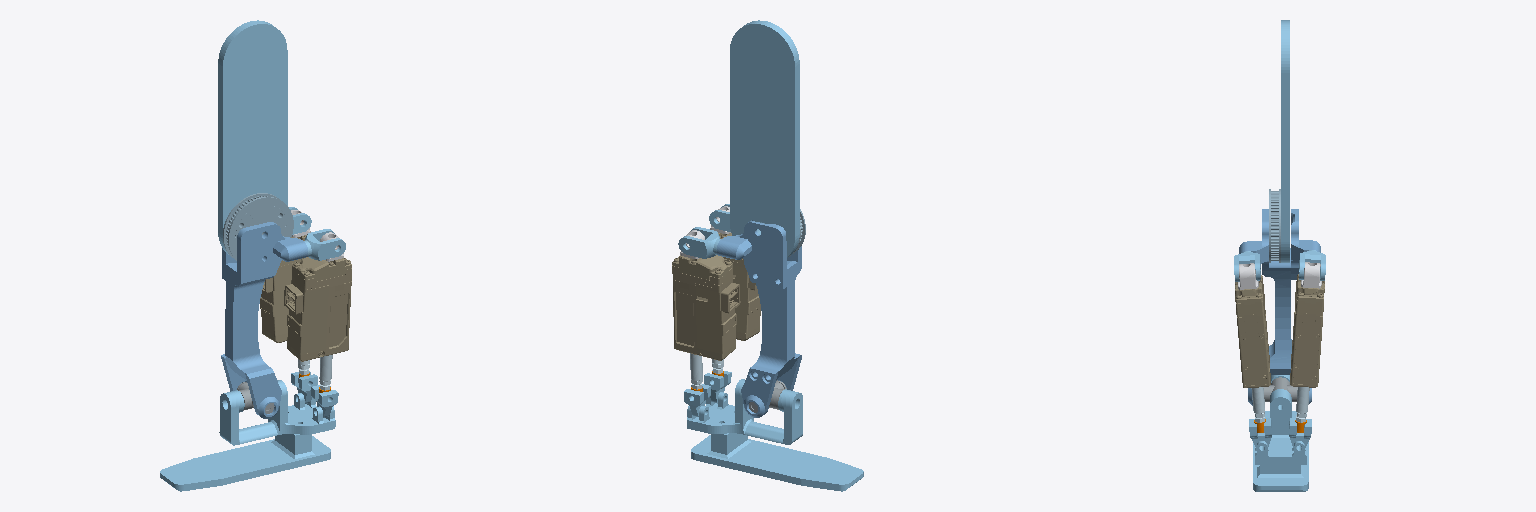
--- Render facts (derived) ---
3 views of the same robot in one strip: view 1: azimuth 30°, elevation 25°; view 2: azimuth 150°, elevation 25°; view 3: azimuth 270°, elevation 25° (orthographic).
Model base_act with 22 links and 21 joints (13 revolute, 2 prismatic, 6 fixed), rooted at hip_pitch_link, posed every joint at zero.
Visible links, largest first — view 1: hip_pitch_link, ank_base_link, ank_act_link_2, ank_rigid_foot_link, ank_roll_link, knee_link, ank_act_link, ank_b_link_2; view 2: hip_pitch_link, ank_base_link, ank_act_link, ank_rigid_foot_link, ank_roll_link, ank_act_link_2, ank_b_link; view 3: ank_base_link, ank_act_link_2, ank_act_link, ank_roll_link, hip_pitch_link, ank_rigid_foot_link, knee_link.
Boxes of the visible links, <box> form: hip_pitch_link: <box>218,20,287,254</box>; ank_base_link: <box>221,222,307,418</box>; ank_act_link_2: <box>284,257,351,361</box>; ank_rigid_foot_link: <box>160,434,330,491</box>; ank_roll_link: <box>219,380,335,445</box>; knee_link: <box>223,193,293,260</box>; ank_act_link: <box>260,235,306,342</box>; ank_b_link_2: <box>304,229,345,260</box>; hip_pitch_link: <box>730,20,799,257</box>; ank_base_link: <box>717,220,801,417</box>; ank_act_link: <box>672,255,740,360</box>; ank_rigid_foot_link: <box>691,433,863,491</box>; ank_roll_link: <box>687,379,802,444</box>; ank_act_link_2: <box>718,233,760,340</box>; ank_b_link: <box>678,227,720,258</box>; ank_base_link: <box>1239,209,1320,405</box>; ank_act_link_2: <box>1235,275,1270,387</box>; ank_act_link: <box>1290,274,1324,387</box>; ank_roll_link: <box>1255,375,1306,464</box>; hip_pitch_link: <box>1281,20,1289,262</box>; ank_rigid_foot_link: <box>1253,411,1308,491</box>; knee_link: <box>1269,189,1280,262</box>.
Size in the robot's own frame: 0.1011 by 0.0496 by 0.2597 metres.
Meshes: 18 distinct files referenced, 18 mesh visuals loaded (18 binary STL).

robot.urdf — base_act:
<?xml version="1.0" ?>
<robot name="base_act">
<link name="hip_pitch_link">
<visual>
<origin xyz="0 0 0" rpy="0 -0 0" />
<geometry>
<mesh filename="package:///meshes/hip_pitch_link_visual.stl" />
</geometry>
<material name="hip_pitch_link_material">
<color rgba="0.61568627450980395466 0.81176470588235294379 0.92941176470588238168 1.0" />
</material>
</visual>
<collision>
<origin xyz="0 0 0" rpy="0 -0 0" />
<geometry>
<mesh filename="package:///meshes/hip_pitch_link_collision.stl" />
</geometry>
</collision>
<inertial>
<origin xyz="3.7733282287733793921e-17 -0.0024843438022173116447 0.25078691758720839111" rpy="0 0 0" />
<mass value="0.032344925814368430395" />
<inertia ixx="4.6689007636575555378e-05" ixy="-7.8653691960934431506e-20" ixz="-2.8269182393006931084e-21" iyy="5.0734955610399668402e-05" iyz="2.5718421720721515737e-08" izz="4.1800556828525936887e-06" />
</inertial>
</link>

<link name="knee_link">
<visual>
<origin xyz="0 0 0" rpy="0 -0 0" />
<geometry>
<mesh filename="package:///meshes/knee_link_visual.stl" />
</geometry>
<material name="knee_link_material">
<color rgba="0.62989867807310029324 0.73714958717504686092 0.80150013263621500137 1.0" />
</material>
</visual>
<collision>
<origin xyz="0 0 0" rpy="0 -0 0" />
<geometry>
<mesh filename="package:///meshes/knee_link_collision.stl" />
</geometry>
</collision>
<inertial>
<origin xyz="7.9016048423919102933e-17 1.4115065074822643205e-17 -0.003245785312664356808" rpy="0 0 0" />
<mass value="0.0088445512816305894843" />
<inertia ixx="8.4493274385134268438e-07" ixy="2.1633753337704081093e-21" ixz="-4.4859719238895976093e-21" iyy="8.449327438513476607e-07" iyz="7.6824358496880184644e-21" izz="1.6234141475381562004e-06" />
</inertial>
</link>

<link name="ank_base_link">
<visual>
<origin xyz="0 0 0" rpy="0 -0 0" />
<geometry>
<mesh filename="package:///meshes/ank_base_link_visual.stl" />
</geometry>
<material name="ank_base_link_material">
<color rgba="0.54555368846635599045 0.72113944167448496003 0.87071994840215705125 1.0" />
</material>
</visual>
<collision>
<origin xyz="0 0 0" rpy="0 -0 0" />
<geometry>
<mesh filename="package:///meshes/ank_base_link_collision.stl" />
</geometry>
</collision>
<inertial>
<origin xyz="-0.0022434246051615336706 0.043104146371691305639 0.0063175709427246281788" rpy="0 0 0" />
<mass value="0.02875420604358817217" />
<inertia ixx="3.0772164408681787376e-05" ixy="1.8400536704903029448e-06" ixz="1.2178414041262167657e-07" iyy="3.9585076474244708505e-06" iyz="-1.4740589735327474461e-07" izz="3.0395594724444377108e-05" />
</inertial>
</link>

<link name="ank_pitch_link">
<visual>
<origin xyz="0 0 0" rpy="0 -0 0" />
<geometry>
<mesh filename="package:///meshes/ank_pitch_link_visual.stl" />
</geometry>
<material name="ank_pitch_link_material">
<color rgba="0.64184024980098741686 0.67445633560364026682 0.69402598708523177695 1.0" />
</material>
</visual>
<collision>
<origin xyz="0 0 0" rpy="0 -0 0" />
<geometry>
<mesh filename="package:///meshes/ank_pitch_link_collision.stl" />
</geometry>
</collision>
<inertial>
<origin xyz="1.065812785497239684e-07 0.00077531428866852054871 -0.014599794574393471294" rpy="0 0 0" />
<mass value="0.0030690306166371106658" />
<inertia ixx="2.0283928099407155777e-07" ixy="3.8262594985623510174e-13" ixz="3.1594306911978458925e-12" iyy="1.8551421794440896239e-07" iyz="1.5373147078928599918e-13" izz="5.947907120448394324e-08" />
</inertial>
</link>

<link name="ank_roll_link">
<visual>
<origin xyz="0 0 0" rpy="0 -0 0" />
<geometry>
<mesh filename="package:///meshes/ank_roll_link_visual.stl" />
</geometry>
<material name="ank_roll_link_material">
<color rgba="0.61568627450980395466 0.81176470588235294379 0.92941176470588238168 1.0" />
</material>
</visual>
<collision>
<origin xyz="0 0 0" rpy="0 -0 0" />
<geometry>
<mesh filename="package:///meshes/ank_roll_link_collision.stl" />
</geometry>
</collision>
<inertial>
<origin xyz="-1.4901271647309090873e-10 -0.01368496791793158765 0.014389602633949057781" rpy="0 0 0" />
<mass value="0.010935071666786918415" />
<inertia ixx="4.680619581430812295e-06" ixy="-1.1570405105796601499e-14" ixz="-1.8289472765767655991e-14" iyy="4.2448765972400816698e-06" iyz="7.3202159795374526399e-07" izz="1.1368413583288420761e-06" />
</inertial>
</link>

<link name="ank_rigid_foot_link">
<visual>
<origin xyz="0 0 0" rpy="0 -0 0" />
<geometry>
<mesh filename="package:///meshes/ank_rigid_foot_link_visual.stl" />
</geometry>
<material name="ank_rigid_foot_link_material">
<color rgba="0.61568627450980395466 0.81176470588235294379 0.92941176470588238168 1.0" />
</material>
</visual>
<collision>
<origin xyz="0 0 0" rpy="0 -0 0" />
<geometry>
<mesh filename="package:///meshes/ank_rigid_foot_link_collision.stl" />
</geometry>
</collision>
<inertial>
<origin xyz="-0.023731999094105324377 -9.4396649339015101572e-10 -0.013306321578886210963" rpy="0 0 0" />
<mass value="0.016563983404687340067" />
<inertia ixx="1.3186381958179097554e-06" ixy="6.9194669560367671959e-13" ixz="-6.6384590258348538486e-07" iyy="1.1862123164402233144e-05" iyz="-6.0901536317591526258e-15" izz="1.2671869695593447838e-05" />
</inertial>
</link>

<joint name="ank_foot" type="fixed">
<origin xyz="-3.9898639947466563171e-17 -0.022500000000000131006 0.025600000000000136535" rpy="-1.5707963267948477082 -1.5707963267948954478 0" />
<parent link="ank_roll_link" />
<child link="ank_rigid_foot_link" />
<axis xyz="0 0 1" />
<limit effort="1" velocity="20" />
<joint_properties friction="0.0" />
</joint>

<link name="ank_rr_link">
<visual>
<origin xyz="0 0 0" rpy="0 -0 0" />
<geometry>
<mesh filename="package:///meshes/ank_rr_link_visual.stl" />
</geometry>
<material name="ank_rr_link_material">
<color rgba="0.61568627450980395466 0.81176470588235294379 0.92941176470588238168 1.0" />
</material>
</visual>
<collision>
<origin xyz="0 0 0" rpy="0 -0 0" />
<geometry>
<mesh filename="package:///meshes/ank_rr_link_collision.stl" />
</geometry>
</collision>
<inertial>
<origin xyz="2.9962725549968923216e-05 -0.006924128325415312632 -0.001900000000000005634" rpy="0 0 0" />
<mass value="0.00095937776863479976974" />
<inertia ixx="2.2259486597278172718e-08" ixy="8.841769308478533704e-11" ixz="-1.3528801961660026529e-14" iyy="1.9281323587980155461e-08" iyz="-5.7741986878948360312e-26" izz="2.9726039484830359872e-08" />
</inertial>
</link>

<link name="ank_act_rod_head">
<visual>
<origin xyz="0 0 0" rpy="0 -0 0" />
<geometry>
<mesh filename="package:///meshes/ank_act_rod_head_visual.stl" />
</geometry>
<material name="ank_act_rod_head_material">
<color rgba="0.97254901960784312376 0.52941176470588235947 0.0039215686274509803377 1.0" />
</material>
</visual>
<collision>
<origin xyz="0 0 0" rpy="0 -0 0" />
<geometry>
<mesh filename="package:///meshes/ank_act_rod_head_collision.stl" />
</geometry>
</collision>
<inertial>
<origin xyz="-5.7828415394479757123e-11 0.0033987031118029096925 -0.0020055782443104603653" rpy="0 0 0" />
<mass value="0.00021950575367189157174" />
<inertia ixx="3.5463041803908304885e-09" ixy="-3.4252092716065181194e-27" ixz="3.0761072604181171894e-16" iyy="7.8971958044316566211e-10" iyz="2.1060789170620457003e-12" izz="3.8328239589459794417e-09" />
</inertial>
</link>

<link name="closing_ank_act1_2">
<inertial>
<origin xyz="0 0 0" rpy="0 0 0" />
<mass value="1e-9" />
<inertia ixx="0" ixy="0" ixz="0" iyy="0" iyz="0" izz="0" />
</inertial>
</link>
<joint name="closing_ank_act1_2_frame" type="fixed">
<origin xyz="0 0.0040999999999999925393 -0.0020093773498181892977" rpy="1.570796326794896558 -1.570796326794896558 0" />
<parent link="ank_act_rod_head" />
<child link="closing_ank_act1_2" />
<axis xyz="0 0 0" />
</joint>

<joint name="ank_R21_passive" type="revolute">
<origin xyz="0.001999999999999990067 -0.0099999999999999672484 -0.0019000000000000058509" rpy="-1.5707963267948636954 -1.5534345204865058765 -1.5707963267948001906" />
<parent link="ank_rr_link" />
<child link="ank_act_rod_head" />
<axis xyz="0 0 1" />
<limit effort="1" velocity="20" lower="-1.570796326794896558" upper="1.570796326794896558" />
<joint_properties friction="0.0" />
</joint>

<joint name="ank_R11_passive" type="revolute">
<origin xyz="0.009999999999999995004 -0.01250000000000002498 0.040599999999999976386" rpy="4.5538414498539748188e-14 8.2432841012071876929e-15 3.0761399207850028681" />
<parent link="ank_roll_link" />
<child link="ank_rr_link" />
<axis xyz="0 0 1" />
<limit effort="1" velocity="20" lower="-1.570796326794896558" upper="1.570796326794896558" />
<joint_properties friction="0.0" />
</joint>

<link name="ank_rr_link_2">
<visual>
<origin xyz="0 0 0" rpy="0 -0 0" />
<geometry>
<mesh filename="package:///meshes/ank_rr_link_2_visual.stl" />
</geometry>
<material name="ank_rr_link_2_material">
<color rgba="0.61568627450980395466 0.81176470588235294379 0.92941176470588238168 1.0" />
</material>
</visual>
<collision>
<origin xyz="0 0 0" rpy="0 -0 0" />
<geometry>
<mesh filename="package:///meshes/ank_rr_link_2_collision.stl" />
</geometry>
</collision>
<inertial>
<origin xyz="2.9962725549968774138e-05 0.0069241283254153134993 -0.0018999999999999991288" rpy="0 0 0" />
<mass value="0.00095937776863479976974" />
<inertia ixx="2.22594865972781661e-08" ixy="-8.8417693084784858826e-11" ixz="1.3528801961658870059e-14" iyy="1.9281323587980162078e-08" iyz="-1.6626376108552277629e-26" izz="2.9726039484830359872e-08" />
</inertial>
</link>

<link name="ank_act_rod_head_2">
<visual>
<origin xyz="0 0 0" rpy="0 -0 0" />
<geometry>
<mesh filename="package:///meshes/ank_act_rod_head_2_visual.stl" />
</geometry>
<material name="ank_act_rod_head_2_material">
<color rgba="0.97254901960784312376 0.52941176470588235947 0.0039215686274509803377 1.0" />
</material>
</visual>
<collision>
<origin xyz="0 0 0" rpy="0 -0 0" />
<geometry>
<mesh filename="package:///meshes/ank_act_rod_head_2_collision.stl" />
</geometry>
</collision>
<inertial>
<origin xyz="-5.7828422333254443625e-11 0.0033987031118029096925 -0.002005578244310459498" rpy="0 0 0" />
<mass value="0.00021950575367189157174" />
<inertia ixx="3.5463041803908304885e-09" ixy="-2.0779273637994250695e-27" ixz="3.0761072604376908006e-16" iyy="7.8971958044316545532e-10" iyz="2.106078917062082051e-12" izz="3.8328239589459794417e-09" />
</inertial>
</link>

<link name="closing_ank_act2_2">
<inertial>
<origin xyz="0 0 0" rpy="0 0 0" />
<mass value="1e-9" />
<inertia ixx="0" ixy="0" ixz="0" iyy="0" iyz="0" izz="0" />
</inertial>
</link>
<joint name="closing_ank_act2_2_frame" type="fixed">
<origin xyz="-6.9388939039072283776e-18 0.0040999999999999925393 -0.0020093773498181905987" rpy="1.570796326794896558 1.570796326794896558 0" />
<parent link="ank_act_rod_head_2" />
<child link="closing_ank_act2_2" />
<axis xyz="0 0 0" />
</joint>

<joint name="ank_R22_passive" type="revolute">
<origin xyz="0.0020000000000000139194 0.010000000000000050515 -0.0019000000000000127898" rpy="-1.5707963267951321473 1.5676670190976929042 -1.5707963267984343947" />
<parent link="ank_rr_link_2" />
<child link="ank_act_rod_head_2" />
<axis xyz="0 0 1" />
<limit effort="1" velocity="20" lower="-1.570796326794896558" upper="1.570796326794896558" />
<joint_properties friction="0.0" />
</joint>

<joint name="ank_R12_passive" type="revolute">
<origin xyz="-0.0099999999999999845957 -0.012500000000000052736 0.040599999999999969447" rpy="-4.7709545858758676013e-14 1.2384261596296442717e-14 0.079471996733595215434" />
<parent link="ank_roll_link" />
<child link="ank_rr_link_2" />
<axis xyz="0 0 1" />
<limit effort="1" velocity="20" lower="-1.570796326794896558" upper="1.570796326794896558" />
<joint_properties friction="0.0" />
</joint>

<joint name="ank_roll_passive" type="revolute">
<origin xyz="-9.7144514654701197287e-17 0.0015000000000004699244 -0.014599999999999951558" rpy="1.5707963267949847097 -1.5707963267948685804 0" />
<parent link="ank_pitch_link" />
<child link="ank_roll_link" />
<axis xyz="0 0 1" />
<limit effort="1" velocity="20" lower="-1.570796326794896558" upper="1.570796326794896558" />
<joint_properties friction="0.0" />
</joint>

<joint name="ank_pitch_passive" type="revolute">
<origin xyz="-9.6428941220860764361e-16 0.10000000000000054678 0.020899999999999852723" rpy="-1.7591152789461700036e-14 -1.17510393317422114e-14 1.5707963267948696906" />
<parent link="ank_base_link" />
<child link="ank_pitch_link" />
<axis xyz="0 0 1" />
<limit effort="1" velocity="20" lower="-1.570796326794896558" upper="1.570796326794896558" />
<joint_properties friction="0.0" />
</joint>

<link name="ank_b_link">
<visual>
<origin xyz="0 0 0" rpy="0 -0 0" />
<geometry>
<mesh filename="package:///meshes/ank_b_link_visual.stl" />
</geometry>
<material name="ank_b_link_material">
<color rgba="0.61568627450980395466 0.81176470588235294379 0.92941176470588238168 1.0" />
</material>
</visual>
<collision>
<origin xyz="0 0 0" rpy="0 -0 0" />
<geometry>
<mesh filename="package:///meshes/ank_b_link_collision.stl" />
</geometry>
</collision>
<inertial>
<origin xyz="-4.9409968166594704884e-09 -5.9508723331034708004e-09 -0.0087165888679858055665" rpy="0 0 0" />
<mass value="0.0018061238347465617769" />
<inertia ixx="6.8190599908615980891e-08" ixy="7.8635200701985070024e-15" ixz="3.0597461359883343018e-14" iyy="9.2346732637605712292e-08" iyz="1.0525709658713786578e-13" izz="5.2312166133588304563e-08" />
</inertial>
</link>

<link name="ank_act_link_head">
<visual>
<origin xyz="0 0 0" rpy="0 -0 0" />
<geometry>
<mesh filename="package:///meshes/ank_act_link_head_visual.stl" />
</geometry>
<material name="ank_act_link_head_material">
<color rgba="0.88056600890562186645 0.88861789403065327697 0.90620490627743222056 1.0" />
</material>
</visual>
<collision>
<origin xyz="0 0 0" rpy="0 -0 0" />
<geometry>
<mesh filename="package:///meshes/ank_act_link_head_collision.stl" />
</geometry>
</collision>
<inertial>
<origin xyz="8.5302207298504454166e-09 -0.0023472231756389875731 -0.0043000180232788303217" rpy="0 0 0" />
<mass value="0.0010137428556269212961" />
<inertia ixx="1.7595804335327249143e-08" ixy="-1.8953906758305975798e-14" ixz="3.4298614250557612482e-15" iyy="1.8686772327038895467e-08" iyz="3.8687737631019892071e-14" izz="2.0745111892073782402e-08" />
</inertial>
</link>

<link name="ank_act_link">
<visual>
<origin xyz="0 0 0" rpy="0 -0 0" />
<geometry>
<mesh filename="package:///meshes/ank_act_link_visual.stl" />
</geometry>
<material name="ank_act_link_material">
<color rgba="0.62004392100736005489 0.58836684613512646447 0.49897069021535683797 1.0" />
</material>
</visual>
<collision>
<origin xyz="0 0 0" rpy="0 -0 0" />
<geometry>
<mesh filename="package:///meshes/ank_act_link_collision.stl" />
</geometry>
</collision>
<inertial>
<origin xyz="0.004908420724366607639 -0.00013802439943765709577 -0.029947003577137774888" rpy="0 0 0" />
<mass value="0.014875829689094587083" />
<inertia ixx="5.0691364673482598494e-06" ixy="7.6254895319621109542e-09" ixz="-2.7027705290864080555e-08" iyy="6.0418780822953625318e-06" iyz="-1.8450119865753021901e-08" izz="1.7106123406097888202e-06" />
</inertial>
</link>

<link name="ank_act_rod">
<visual>
<origin xyz="0 0 0" rpy="0 -0 0" />
<geometry>
<mesh filename="package:///meshes/ank_act_rod_visual.stl" />
</geometry>
<material name="ank_act_rod_material">
<color rgba="0.80016770676329818102 0.8929145636529542962 0.94547111589042609481 1.0" />
</material>
</visual>
<collision>
<origin xyz="0 0 0" rpy="0 -0 0" />
<geometry>
<mesh filename="package:///meshes/ank_act_rod_collision.stl" />
</geometry>
</collision>
<inertial>
<origin xyz="-2.7254954597961306465e-06 -1.2667795960183579813e-05 0.0060054807227730442123" rpy="0 0 0" />
<mass value="0.00089508237670679559241" />
<inertia ixx="1.0706827018452704372e-07" ixy="-3.3012321678792864833e-13" ixz="3.4848043137961844265e-11" iyy="1.0706623271914384496e-07" iyz="1.8707660083621052039e-10" izz="6.2272645082923549957e-09" />
</inertial>
</link>

<link name="closing_ank_act1_1">
<inertial>
<origin xyz="0 0 0" rpy="0 0 0" />
<mass value="1e-9" />
<inertia ixx="0" ixy="0" ixz="0" iyy="0" iyz="0" izz="0" />
</inertial>
</link>
<joint name="closing_ank_act1_1_frame" type="fixed">
<origin xyz="-3.1001814916432196556e-05 -0.00019012642426191952993 0.023400000000002821321" rpy="-7.7012090744259865156e-14 2.3601491602027366924e-13 -2.2075153486839074191" />
<parent link="ank_act_rod" />
<child link="closing_ank_act1_1" />
<axis xyz="0 0 0" />
</joint>

<joint name="ank_act1" type="prismatic">
<origin xyz="2.2722093444352275959e-06 -2.0041477158394549463e-15 -0.059207313423200264024" rpy="3.141592653589793116 -7.1063902759635634618e-15 -0.636713564420013034" />
<parent link="ank_act_link" />
<child link="ank_act_rod" />
<axis xyz="0 0 1" />
<limit effort="1" velocity="20" lower="-0.017000000000000001221" upper="0.017000000000000001221" />
<joint_properties friction="0.0" />
</joint>

<joint name="ank_B31_passive" type="revolute">
<origin xyz="-6.9388939039072283776e-18 -0.0060499999999999998224 -0.0043000000000000104111" rpy="1.5707963267948956698 5.4574690063281408408e-06 -3.1415926535897900074" />
<parent link="ank_act_link_head" />
<child link="ank_act_link" />
<axis xyz="0 0 1" />
<limit effort="1" velocity="20" lower="-1.570796326794896558" upper="1.570796326794896558" />
<joint_properties friction="0.0" />
</joint>

<joint name="ank_B21_passive" type="revolute">
<origin xyz="-0.0045000000000000126704 0 -0.016999999999999990813" rpy="1.570796326794891451 1.5534345204864312695 -1.5707963267939346608" />
<parent link="ank_b_link" />
<child link="ank_act_link_head" />
<axis xyz="0 0 1" />
<limit effort="1" velocity="20" lower="-1.570796326794896558" upper="1.570796326794896558" />
<joint_properties friction="0.0" />
</joint>

<joint name="ank_B11_passive" type="revolute">
<origin xyz="0.018680019623524654615 0.010000000000000702771 0.023399999999999573919" rpy="-1.5707963267948796826 -1.5053435939903385687 1.5707963267951574604" />
<parent link="ank_base_link" />
<child link="ank_b_link" />
<axis xyz="0 0 1" />
<limit effort="1" velocity="20" lower="-3.141592653589793116" upper="0" />
<joint_properties friction="0.0" />
</joint>

<link name="ank_b_link_2">
<visual>
<origin xyz="0 0 0" rpy="0 -0 0" />
<geometry>
<mesh filename="package:///meshes/ank_b_link_2_visual.stl" />
</geometry>
<material name="ank_b_link_2_material">
<color rgba="0.61568627450980395466 0.81176470588235294379 0.92941176470588238168 1.0" />
</material>
</visual>
<collision>
<origin xyz="0 0 0" rpy="0 -0 0" />
<geometry>
<mesh filename="package:///meshes/ank_b_link_2_collision.stl" />
</geometry>
</collision>
<inertial>
<origin xyz="-4.9409968176368067161e-09 5.9508723608193624261e-09 0.0087165888679858055665" rpy="0 0 0" />
<mass value="0.0018061238347465617769" />
<inertia ixx="6.8190599908615954421e-08" ixy="-7.8635200719663032703e-15" ixz="-3.0597461359877858857e-14" iyy="9.2346732637605685823e-08" iyz="1.0525709658722201515e-13" izz="5.2312166133588304563e-08" />
</inertial>
</link>

<link name="ank_act_link_head_2">
<visual>
<origin xyz="0 0 0" rpy="0 -0 0" />
<geometry>
<mesh filename="package:///meshes/ank_act_link_head_2_visual.stl" />
</geometry>
<material name="ank_act_link_head_2_material">
<color rgba="0.88056600890562186645 0.88861789403065327697 0.90620490627743222056 1.0" />
</material>
</visual>
<collision>
<origin xyz="0 0 0" rpy="0 -0 0" />
<geometry>
<mesh filename="package:///meshes/ank_act_link_head_2_collision.stl" />
</geometry>
</collision>
<inertial>
<origin xyz="8.5302207582743349907e-09 -0.0023472231756390296402 -0.0043000180232787774126" rpy="0 0 0" />
<mass value="0.0010137428556269212961" />
<inertia ixx="1.7595804335327182968e-08" ixy="-1.8953906686750839088e-14" ixz="3.4298614250359955494e-15" iyy="1.8686772327038888849e-08" iyz="3.8687737835270432364e-14" izz="2.074511189207370961e-08" />
</inertial>
</link>

<link name="ank_act_link_2">
<visual>
<origin xyz="0 0 0" rpy="0 -0 0" />
<geometry>
<mesh filename="package:///meshes/ank_act_link_2_visual.stl" />
</geometry>
<material name="ank_act_link_2_material">
<color rgba="0.62004392100736038795 0.58836684613512657549 0.4989706902153570045 1.0" />
</material>
</visual>
<collision>
<origin xyz="0 0 0" rpy="0 -0 0" />
<geometry>
<mesh filename="package:///meshes/ank_act_link_2_collision.stl" />
</geometry>
</collision>
<inertial>
<origin xyz="0.0049084207243669892781 -0.00013802439943706392876 -0.029947003577137372432" rpy="0 0 0" />
<mass value="0.014875829689094587083" />
<inertia ixx="5.0691364673481446529e-06" ixy="7.6254895320040208871e-09" ixz="-2.7027705290816659945e-08" iyy="6.0418780822952549586e-06" iyz="-1.8450119865675746688e-08" izz="1.7106123406097994081e-06" />
</inertial>
</link>

<link name="ank_act_rod_2">
<visual>
<origin xyz="0 0 0" rpy="0 -0 0" />
<geometry>
<mesh filename="package:///meshes/ank_act_rod_2_visual.stl" />
</geometry>
<material name="ank_act_rod_2_material">
<color rgba="0.80016770676329818102 0.8929145636529542962 0.94547111589042609481 1.0" />
</material>
</visual>
<collision>
<origin xyz="0 0 0" rpy="0 -0 0" />
<geometry>
<mesh filename="package:///meshes/ank_act_rod_2_collision.stl" />
</geometry>
</collision>
<inertial>
<origin xyz="-2.7254954588209526258e-06 -1.266779595767124621e-05 0.0060054807227736652434" rpy="0 0 0" />
<mass value="0.00089508237670679559241" />
<inertia ixx="1.0706827018453878307e-07" ixy="-3.3012321673176013629e-13" ixz="3.4848043127687905628e-11" iyy="1.0706623271915575636e-07" iyz="1.8707660080985817459e-10" izz="6.22726450829216888e-09" />
</inertial>
</link>

<link name="closing_ank_act2_1">
<inertial>
<origin xyz="0 0 0" rpy="0 0 0" />
<mass value="1e-9" />
<inertia ixx="0" ixy="0" ixz="0" iyy="0" iyz="0" izz="0" />
</inertial>
</link>
<joint name="closing_ank_act2_1_frame" type="fixed">
<origin xyz="-3.1001814911918446072e-05 -0.0001901264242515129238 0.023400000000005222178" rpy="-3.1112994060701347822e-14 -3.9361409747767986708e-14 -2.2075153486840899397" />
<parent link="ank_act_rod_2" />
<child link="closing_ank_act2_1" />
<axis xyz="0 0 0" />
</joint>

<joint name="ank_act2" type="prismatic">
<origin xyz="2.2722093450874836229e-06 -8.5521867365656589755e-16 -0.059245886443141021482" rpy="-3.141592653589793116 7.4572825813947619791e-15 -0.63671356442005910825" />
<parent link="ank_act_link_2" />
<child link="ank_act_rod_2" />
<axis xyz="0 0 1" />
<limit effort="1" velocity="20" lower="-0.017000000000000001221" upper="0.017000000000000001221" />
<joint_properties friction="0.0" />
</joint>

<joint name="ank_B32_passive" type="revolute">
<origin xyz="-4.1633363423443370266e-17 -0.0060499999999999720668 -0.0042999999999999635736" rpy="1.5707963267948958919 5.4574691649268270539e-06 3.1415926535897900074" />
<parent link="ank_act_link_head_2" />
<child link="ank_act_link_2" />
<axis xyz="0 0 1" />
<limit effort="1" velocity="20" lower="-1.570796326794896558" upper="1.570796326794896558" />
<joint_properties friction="0.0" />
</joint>

<joint name="ank_B22_passive" type="revolute">
<origin xyz="0.0044999999999999987926 -5.5511151231257827021e-17 0.016999999999999983874" rpy="-1.5707963267945563857 -1.5676670190976655928 -1.5707963267937707919" />
<parent link="ank_b_link_2" />
<child link="ank_act_link_head_2" />
<axis xyz="0 0 1" />
<limit effort="1" velocity="20" lower="-1.570796326794896558" upper="1.570796326794896558" />
<joint_properties friction="0.0" />
</joint>

<joint name="ank_B12_passive" type="revolute">
<origin xyz="0.019999999999999386324 0.010000000000000314193 -0.011499999999999789904" rpy="1.5707963267948996666 1.4913243300613441278 1.5707963267949569541" />
<parent link="ank_base_link" />
<child link="ank_b_link_2" />
<axis xyz="0 0 1" />
<limit effort="1" velocity="20" lower="-1.570796326794896558" upper="1.570796326794896558" />
<joint_properties friction="0.0" />
</joint>

<joint name="ank_base" type="fixed">
<origin xyz="1.3877787807814456755e-16 0 -0.0064999999999999979669" rpy="-1.0312433704806125148e-14 1.2877894632628875911e-29 -2.0891591146372148202" />
<parent link="knee_link" />
<child link="ank_base_link" />
<axis xyz="0 0 1" />
<limit effort="1" velocity="20" />
<joint_properties friction="0.0" />
</joint>

<joint name="knee" type="revolute">
<origin xyz="1.873501354054951662e-16 -0.0050000000000002681189 0.19999999999999881761" rpy="1.5707963267948996666 1.0471975511965994077 3.1415926535897864547" />
<parent link="hip_pitch_link" />
<child link="knee_link" />
<axis xyz="0 0 1" />
<limit effort="1" velocity="20" lower="-1.0471975511965976313" upper="2.0943951023931952626" />
<joint_properties friction="0.0" />
</joint>


</robot>
